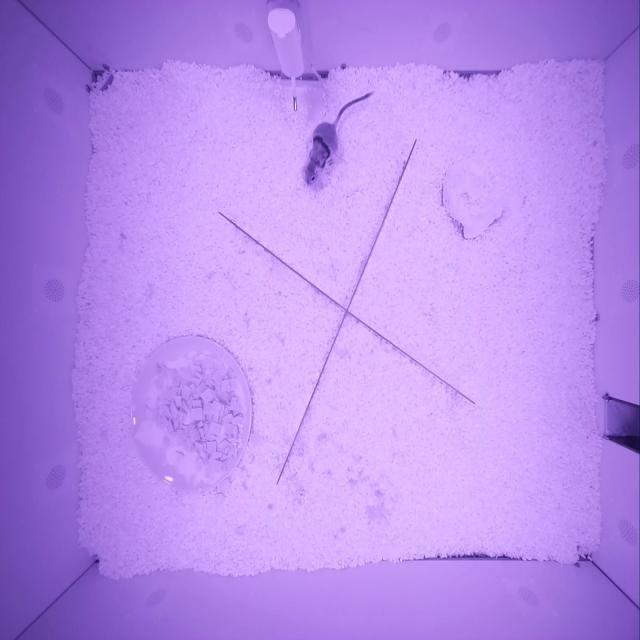adult_front: (305, 122, 338, 186)
